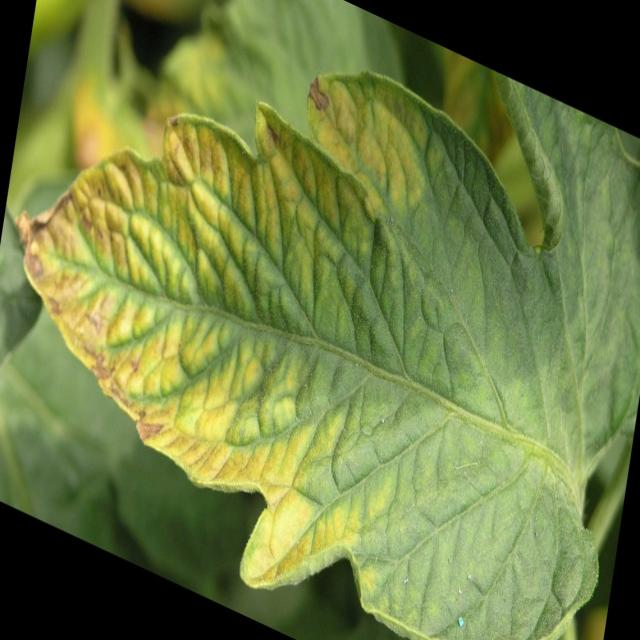Chlorosis: (21, 123, 553, 615)
